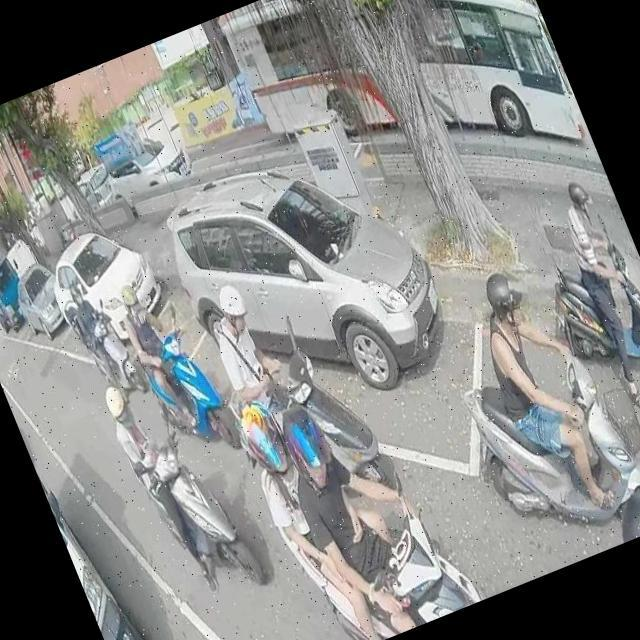person: (222, 363, 423, 640), (263, 372, 463, 640), (454, 246, 636, 534), (98, 365, 229, 604), (539, 167, 640, 420), (110, 263, 214, 436), (193, 276, 292, 432), (59, 273, 130, 392), (603, 472, 640, 541)
